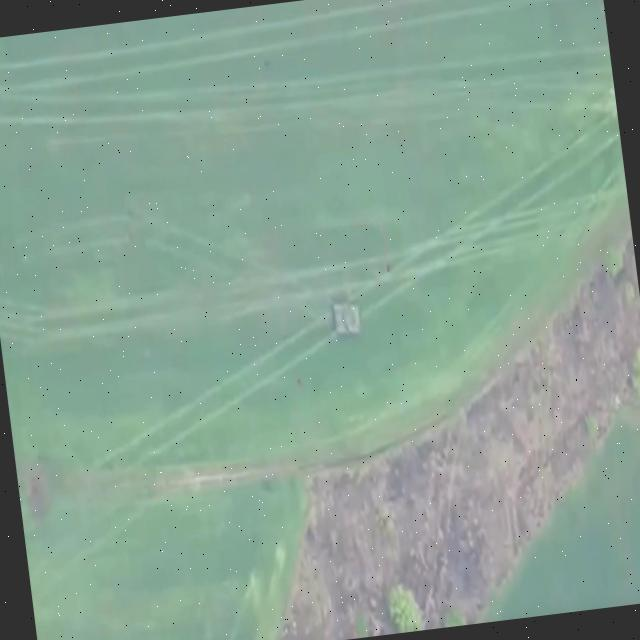MBT: (324, 299, 367, 343)
